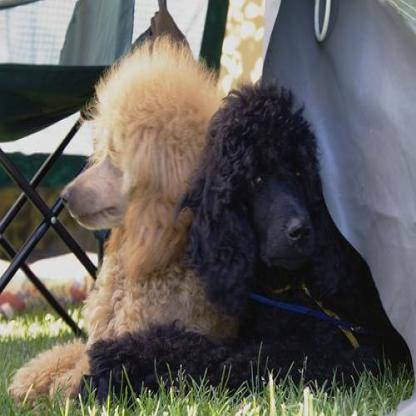standard_poodle: (78, 79, 414, 403), (6, 25, 240, 414)
